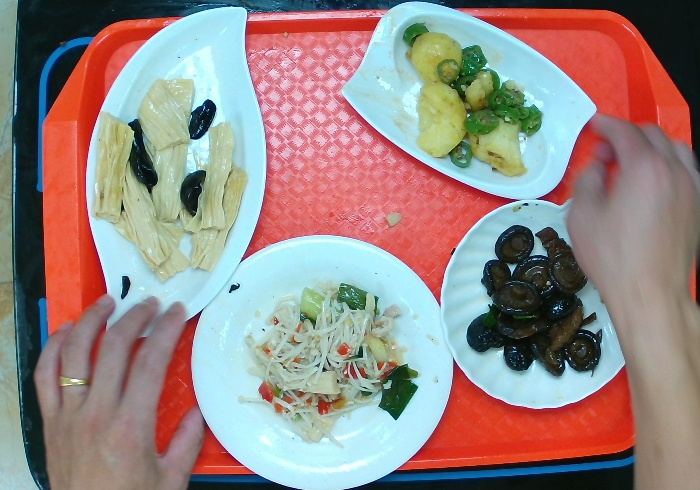RJxy-Bei_Ke_Wan: (431, 193, 642, 411)
RJxy-Jian_Jiao_Fang_Die: (335, 1, 601, 207)
RJxy-Jian_Jiao_Pan: (80, 6, 271, 346)
RJxy-Yuan_Pan: (182, 228, 456, 490)
